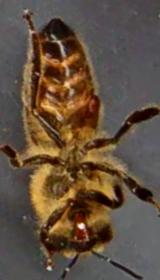varroa_mite: (78, 88, 105, 126)
